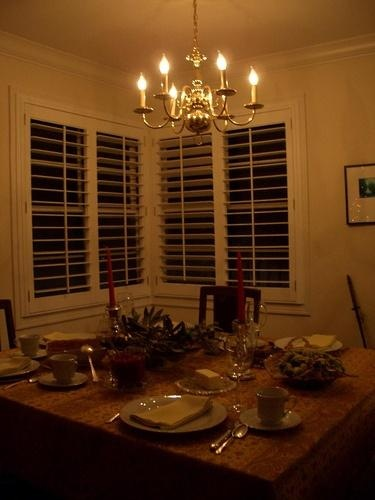chair: (195, 282, 273, 336)
diningtable: (4, 324, 375, 500)
